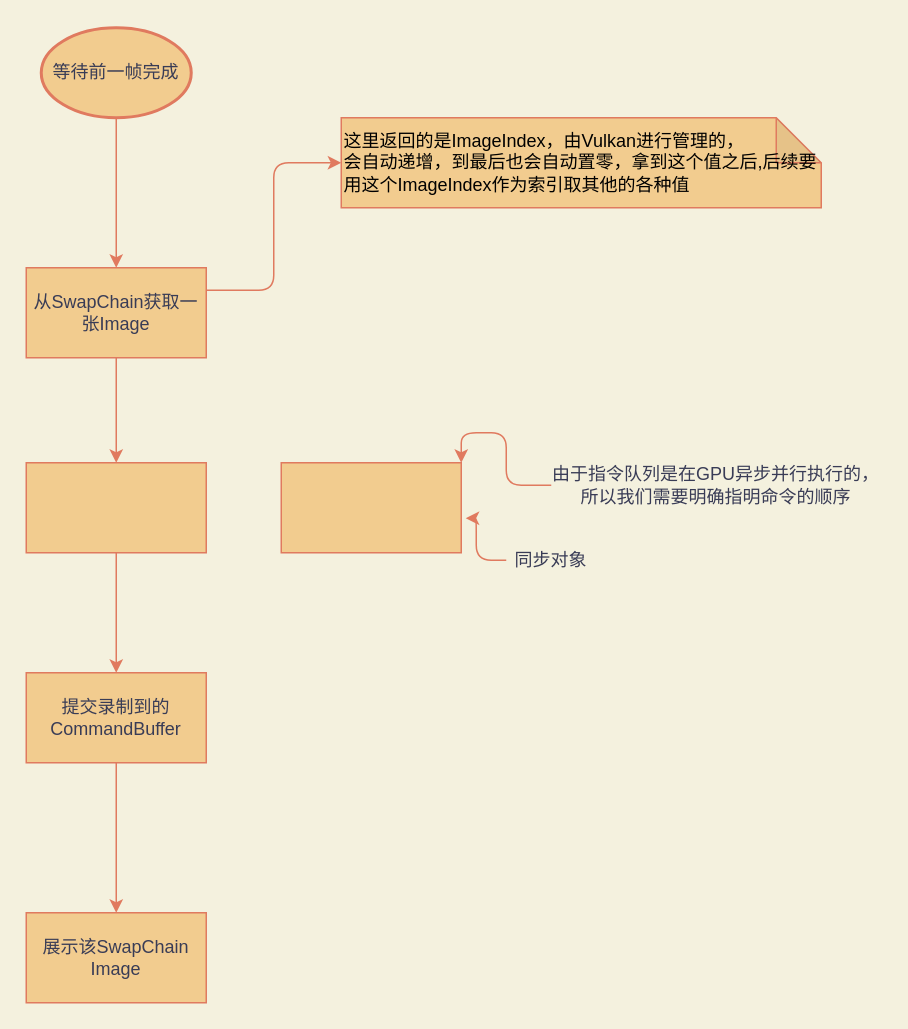
Image size: 908x1029. Some labels were removed from this diagram. Here are the shapes that lost their labels. From the top down, the centre of each, then its label:
At [115,507]: "把如果绘制一帧的Command绘制到一个CommandBuffer上".
At [370,507]: "Command的同步机制".
